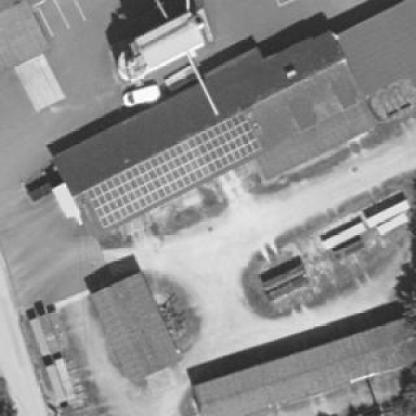solar-pv-panel: (87, 112, 261, 227)
